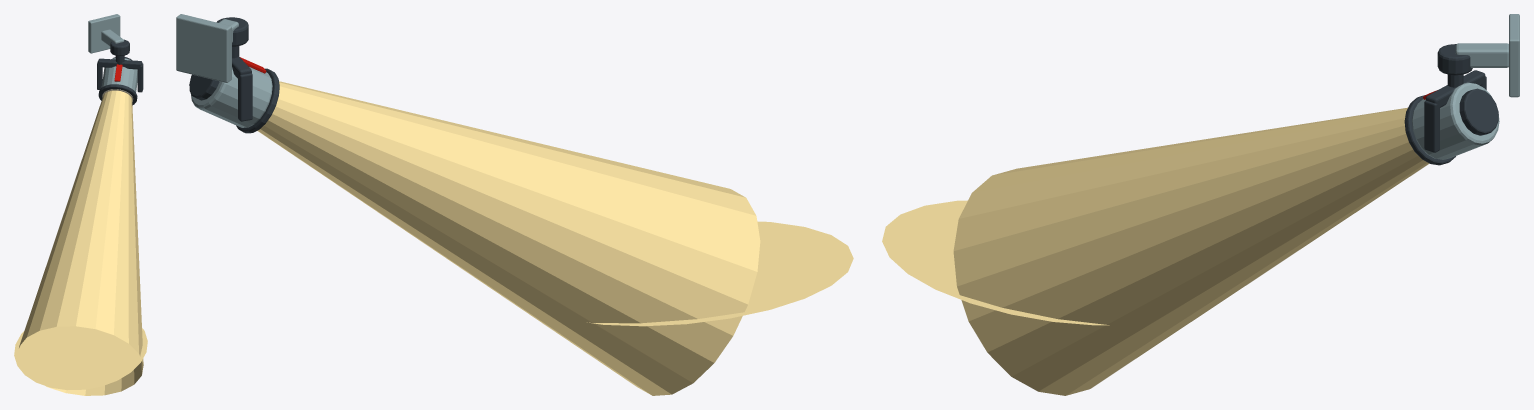
The model's file is MD_Prison_Searchlight.fbx.
3 renders of one model, left to right at view 1: azimuth 30°, elevation 25°; view 2: azimuth 150°, elevation 25°; view 3: azimuth 270°, elevation 25°, orthographic. The views are drawn at different scales.
Parts seen in each view (by area): view 1: Beam, FloorSpot, Base, Head, Pan; view 2: Beam, FloorSpot, Base, Head, Pan; view 3: Beam, FloorSpot, Head, Base, Pan.
Boxes of the visible parts, left/top/right/bottom form: Beam: left=19, top=90, right=143, bottom=395; FloorSpot: left=14, top=326, right=147, bottom=390; Base: left=88, top=14, right=129, bottom=55; Head: left=98, top=57, right=137, bottom=105; Pan: left=97, top=55, right=143, bottom=92; Beam: left=257, top=81, right=760, bottom=395; FloorSpot: left=587, top=221, right=853, bottom=326; Base: left=176, top=14, right=248, bottom=82; Head: left=189, top=57, right=279, bottom=133; Pan: left=232, top=46, right=252, bottom=121; Beam: left=953, top=107, right=1429, bottom=395; FloorSpot: left=882, top=200, right=1109, bottom=325; Head: left=1404, top=82, right=1499, bottom=165; Base: left=1437, top=14, right=1519, bottom=97; Pan: left=1424, top=70, right=1486, bottom=152.
Size of the model in its own units: 565 by 588 by 704.
